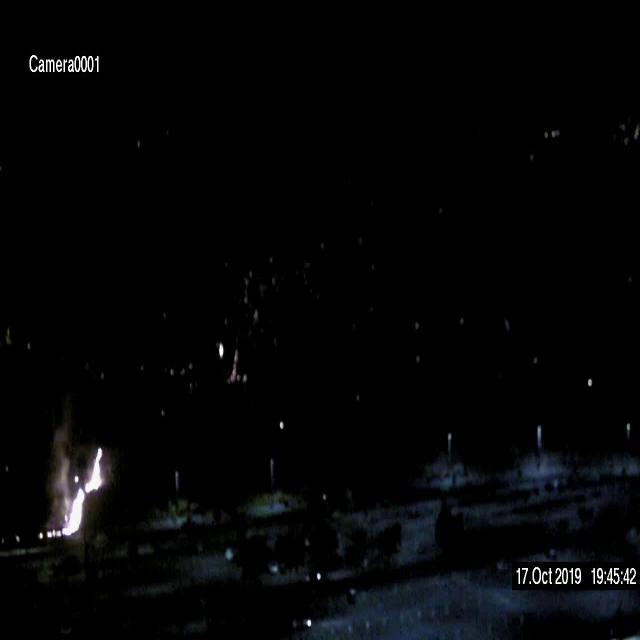Fire: (50, 450, 106, 536)
Smoke: (43, 402, 73, 512)
